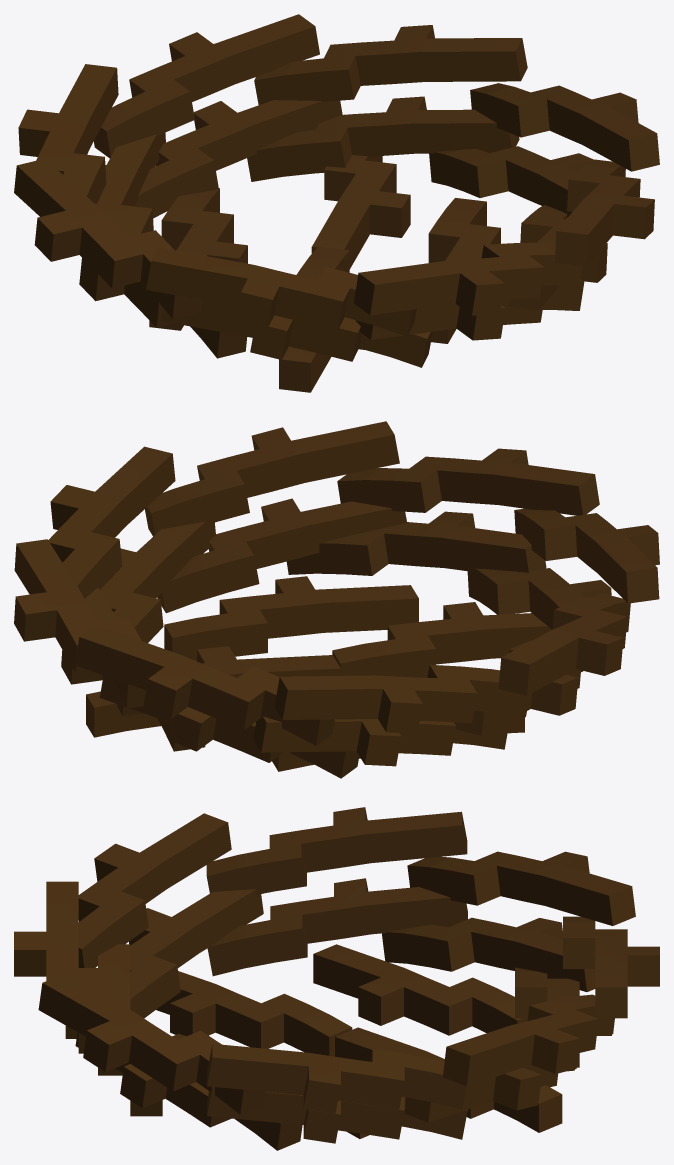
The model's file is nest.fbx.
3 renders of one model, top to bottom at view 1: azimuth 30°, elevation 25°; view 2: azimuth 150°, elevation 25°; view 3: azimuth 270°, elevation 25°, orthographic.
Parts seen in each view (by area): view 1: nest; view 2: nest; view 3: nest.
Part boxes in pixels (x1,y1,x2,y2): nest: [14, 14, 659, 392]; nest: [14, 421, 659, 778]; nest: [14, 807, 659, 1150].
Size of the model in its own units: 19.99 by 4.41 by 19.99.
